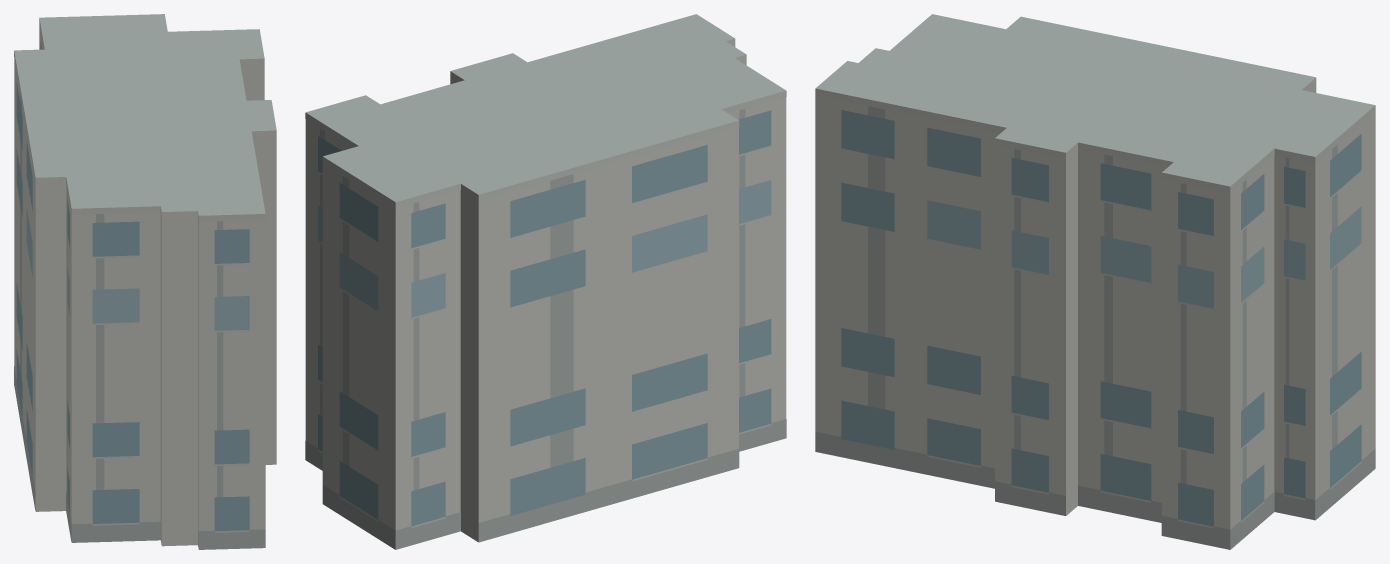
Rendered from survey-upis-32945550.glb.
The picture shows the model from 3 angles, left to right: view 1: azimuth 30°, elevation 25°; view 2: azimuth 150°, elevation 25°; view 3: azimuth 270°, elevation 25°; orthographic projection. The views are drawn at different scales.
Parts seen in each view (by area): view 1: survey-upis-32945550.tmp; view 2: survey-upis-32945550.tmp; view 3: survey-upis-32945550.tmp.
Boxes of the visible parts, left/top/right/bottom form: survey-upis-32945550.tmp: left=14, top=14, right=276, bottom=549; survey-upis-32945550.tmp: left=305, top=14, right=786, bottom=549; survey-upis-32945550.tmp: left=815, top=14, right=1375, bottom=549.
Bounding box in the file's own units: 13.45 × 13.2 × 18.46.
